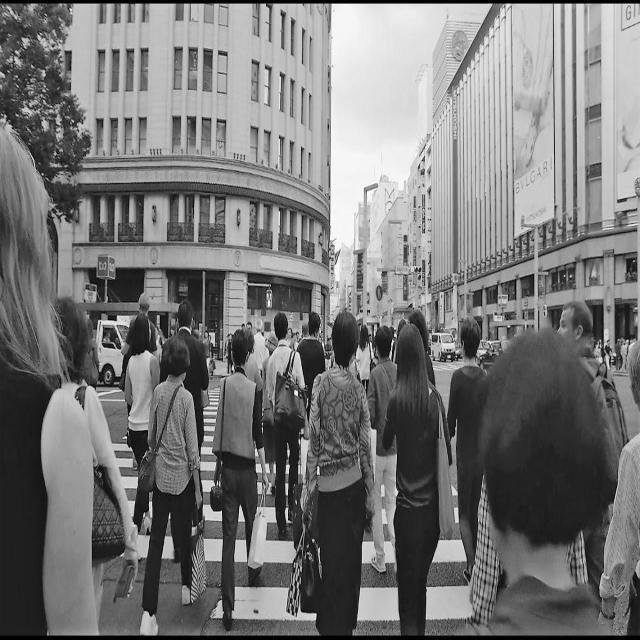person: (0, 46, 99, 640), (475, 316, 626, 633), (33, 275, 138, 633), (367, 311, 453, 633), (296, 312, 372, 636), (135, 337, 205, 623), (209, 326, 267, 622), (445, 321, 495, 602), (558, 299, 631, 475), (257, 323, 309, 543), (368, 319, 400, 565), (121, 292, 162, 472), (179, 326, 209, 431), (408, 302, 439, 392), (227, 322, 252, 377), (613, 339, 625, 370)
